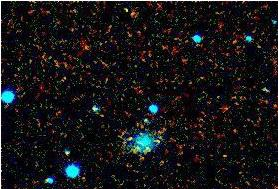star: (114, 124, 144, 154)
